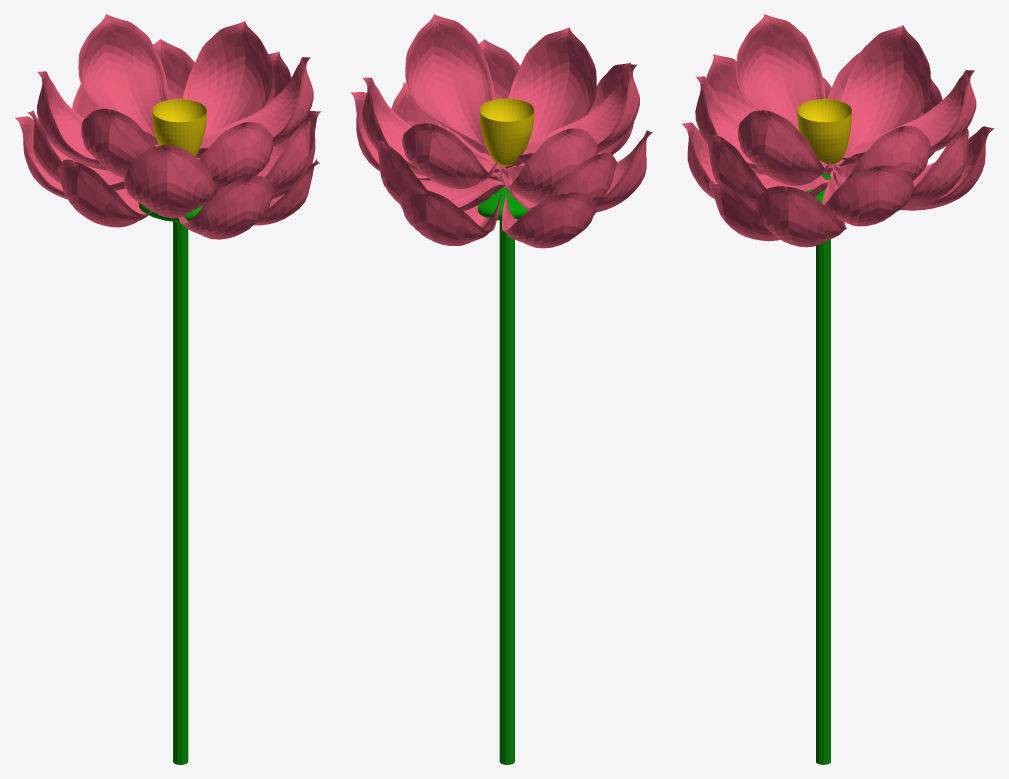
File: Lotus091.fbx
3 views of the same model, side by side, from view 1: azimuth 30°, elevation 25°; view 2: azimuth 150°, elevation 25°; view 3: azimuth 270°, elevation 25° (orthographic).
Visible parts, largest first — view 1: pCylinder1, nurbsToPoly23, nurbsToPoly19, nurbsToPoly16, nurbsToPoly8, nurbsToPoly11, nurbsToPoly18, nurbsToPoly21, nurbsToPoly22, nurbsToPoly20, pSphere3, nurbsToPoly13 (+6 smaller); view 2: pCylinder1, nurbsToPoly22, nurbsToPoly18, nurbsToPoly23, nurbsToPoly10, nurbsToPoly20, nurbsToPoly12, nurbsToPoly21, pSphere3, nurbsToPoly17, nurbsToPoly19, nurbsToPoly14 (+6 smaller); view 3: pCylinder1, nurbsToPoly20, nurbsToPoly21, nurbsToPoly22, nurbsToPoly15, nurbsToPoly9, nurbsToPoly23, nurbsToPoly19, pSphere3, nurbsToPoly13, nurbsToPoly17, nurbsToPoly18 (+5 smaller).
Boxes of the visible parts, x1,y1,x2,y2 form: pCylinder1: [173, 221, 188, 764]; nurbsToPoly23: [78, 14, 169, 145]; nurbsToPoly19: [182, 21, 272, 136]; nurbsToPoly16: [123, 145, 216, 218]; nurbsToPoly8: [178, 175, 273, 239]; nurbsToPoly11: [57, 159, 152, 227]; nurbsToPoly18: [198, 122, 273, 193]; nurbsToPoly21: [81, 108, 155, 178]; nurbsToPoly22: [196, 57, 313, 157]; nurbsToPoly20: [37, 71, 108, 170]; pSphere3: [152, 99, 206, 156]; nurbsToPoly13: [257, 117, 310, 195]; pCylinder1: [499, 220, 514, 764]; nurbsToPoly22: [405, 14, 494, 155]; nurbsToPoly18: [498, 27, 596, 168]; nurbsToPoly23: [402, 123, 498, 188]; nurbsToPoly10: [399, 187, 504, 245]; nurbsToPoly20: [498, 128, 597, 202]; nurbsToPoly12: [502, 186, 596, 248]; nurbsToPoly21: [516, 64, 639, 163]; pSphere3: [479, 98, 534, 166]; nurbsToPoly17: [376, 140, 505, 211]; nurbsToPoly19: [362, 77, 502, 175]; nurbsToPoly14: [496, 152, 616, 210]; pCylinder1: [816, 239, 830, 764]; nurbsToPoly20: [833, 25, 930, 166]; nurbsToPoly21: [736, 14, 825, 130]; nurbsToPoly22: [738, 110, 831, 185]; nurbsToPoly15: [822, 165, 913, 226]; nurbsToPoly9: [753, 186, 846, 247]; nurbsToPoly23: [842, 70, 976, 161]; nurbsToPoly19: [832, 126, 930, 185]; pSphere3: [797, 99, 851, 165]; nurbsToPoly13: [707, 134, 829, 208]; nurbsToPoly17: [830, 128, 968, 207]; nurbsToPoly18: [695, 76, 836, 174].
Bounding box in the file's own units: 19 × 49.98 × 20.25.
